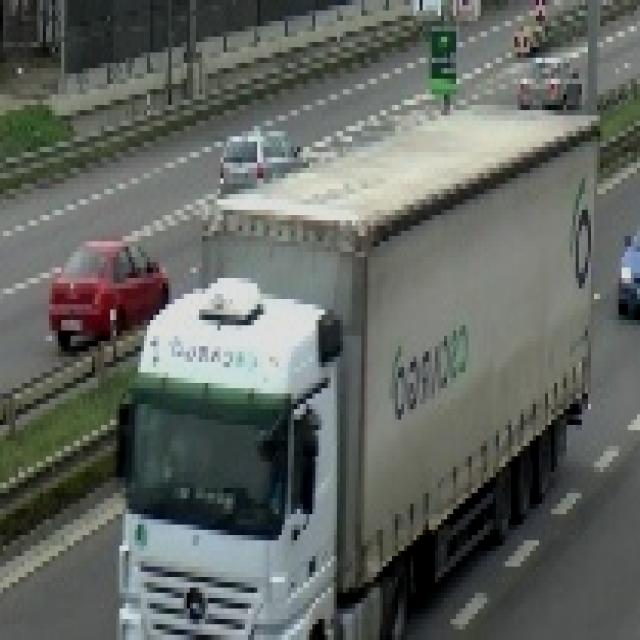SED: (46, 238, 170, 354)
TRUCK: (118, 101, 603, 638)
